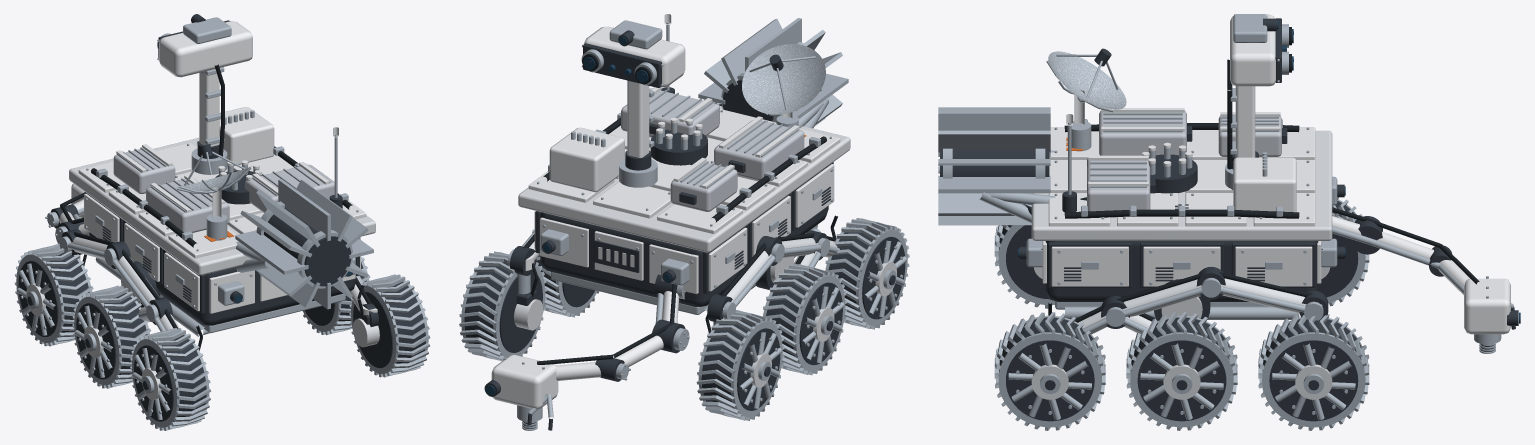
File: rover_marte_ares.glb
The picture shows the model from 3 angles, left to right: view 1: azimuth 30°, elevation 25°; view 2: azimuth 150°, elevation 25°; view 3: azimuth 270°, elevation 25°; orthographic projection. The views are drawn at different scales.
Visible parts, largest first — view 1: 07_Generador_termico / Acero mecanizado, 04_Cubierta_instrumentos / Panel compuesto blanco, 01_Chasis / Panel compuesto blanco, 04_Cubierta_instrumentos / Aislante térmico plateado, 02_Rueda_I_3 / Acero mecanizado, 02_Rueda_I_2 / Acero mecanizado, 02_Rueda_I_1 / Acero mecanizado, 01_Chasis / Juntas grafito, 01_Chasis / Aluminio blanco satinado, 02_Rueda_D_3 / Acero mecanizado, 05_Cabezal / Panel compuesto blanco, 02_Rueda_D_3 / Juntas grafito (+22 smaller); view 2: 04_Cubierta_instrumentos / Panel compuesto blanco, 01_Chasis / Panel compuesto blanco, 01_Chasis / Aluminio blanco satinado, 04_Cubierta_instrumentos / Aislante térmico plateado, 01_Chasis / Juntas grafito, 02_Rueda_I_1 / Acero mecanizado, 08_Comunicaciones / Acero mecanizado, 07_Generador_termico / Acero mecanizado, 02_Rueda_I_2 / Acero mecanizado, 02_Rueda_I_3 / Acero mecanizado, 02_Rueda_D_1 / Acero mecanizado, 02_Rueda_D_1 / Juntas grafito (+29 smaller); view 3: 04_Cubierta_instrumentos / Panel compuesto blanco, 07_Generador_termico / Acero mecanizado, 01_Chasis / Panel compuesto blanco, 01_Chasis / Aluminio blanco satinado, 02_Rueda_D_3 / Acero mecanizado, 02_Rueda_D_2 / Acero mecanizado, 04_Cubierta_instrumentos / Aislante térmico plateado, 02_Rueda_D_1 / Acero mecanizado, 01_Chasis / Juntas grafito, 02_Rueda_D_2 / Juntas grafito, 02_Rueda_D_1 / Juntas grafito, 02_Rueda_D_3 / Juntas grafito (+27 smaller).
Part boxes in pixels (x1,y1,x2,y2): 07_Generador_termico / Acero mecanizado: [235, 179, 373, 309]; 04_Cubierta_instrumentos / Panel compuesto blanco: [78, 107, 366, 258]; 01_Chasis / Panel compuesto blanco: [84, 193, 360, 313]; 04_Cubierta_instrumentos / Aislante térmico plateado: [113, 148, 334, 232]; 02_Rueda_I_3 / Acero mecanizado: [130, 328, 211, 430]; 02_Rueda_I_2 / Acero mecanizado: [72, 285, 151, 388]; 02_Rueda_I_1 / Acero mecanizado: [14, 243, 93, 346]; 01_Chasis / Juntas grafito: [85, 192, 359, 325]; 01_Chasis / Aluminio blanco satinado: [69, 137, 375, 303]; 02_Rueda_D_3 / Acero mecanizado: [349, 274, 430, 377]; 05_Cabezal / Panel compuesto blanco: [159, 21, 252, 77]; 02_Rueda_D_3 / Juntas grafito: [353, 281, 425, 367]; 04_Cubierta_instrumentos / Panel compuesto blanco: [528, 87, 840, 233]; 01_Chasis / Panel compuesto blanco: [534, 164, 834, 293]; 01_Chasis / Aluminio blanco satinado: [518, 105, 850, 282]; 04_Cubierta_instrumentos / Aislante térmico plateado: [621, 88, 804, 211]; 01_Chasis / Juntas grafito: [535, 162, 833, 306]; 02_Rueda_I_1 / Acero mecanizado: [696, 310, 784, 420]; 08_Comunicaciones / Acero mecanizado: [666, 22, 825, 127]; 07_Generador_termico / Acero mecanizado: [698, 18, 848, 128]; 02_Rueda_I_2 / Acero mecanizado: [763, 263, 847, 375]; 02_Rueda_I_3 / Acero mecanizado: [825, 218, 909, 329]; 02_Rueda_D_1 / Acero mecanizado: [459, 251, 547, 361]; 02_Rueda_D_1 / Juntas grafito: [464, 261, 542, 352]; 04_Cubierta_instrumentos / Panel compuesto blanco: [1048, 108, 1315, 226]; 07_Generador_termico / Acero mecanizado: [938, 107, 1055, 225]; 01_Chasis / Panel compuesto blanco: [1042, 241, 1321, 286]; 01_Chasis / Aluminio blanco satinado: [1031, 130, 1332, 318]; 02_Rueda_D_3 / Acero mecanizado: [994, 312, 1105, 430]; 02_Rueda_D_2 / Acero mecanizado: [1126, 312, 1237, 430]; 04_Cubierta_instrumentos / Aislante térmico plateado: [1087, 110, 1281, 211]; 02_Rueda_D_1 / Acero mecanizado: [1258, 314, 1369, 430]; 01_Chasis / Juntas grafito: [1045, 241, 1318, 320]; 02_Rueda_D_2 / Juntas grafito: [1130, 317, 1232, 421]; 02_Rueda_D_1 / Juntas grafito: [1262, 318, 1363, 421]; 02_Rueda_D_3 / Juntas grafito: [999, 317, 1100, 421].
Size of the model in its own units: 3.64 by 3.95 by 5.96.
